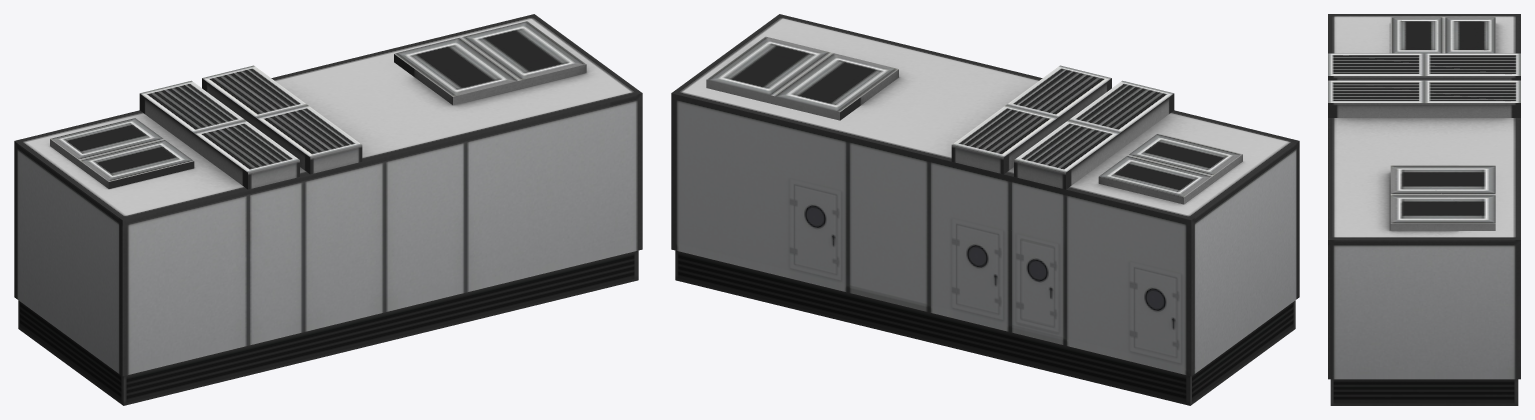
Rendered from AHU103.gltf.
The picture shows the model from 3 angles, left to right: view 1: azimuth 30°, elevation 25°; view 2: azimuth 150°, elevation 25°; view 3: azimuth 270°, elevation 25°; orthographic projection. The views are drawn at different scales.
Visible parts, largest first — view 1: AHU103; view 2: AHU103; view 3: AHU103.
Part boxes in pixels (box(x1,y1,x2,y2)): AHU103: box(14, 14, 642, 405); AHU103: box(671, 14, 1299, 405); AHU103: box(1328, 14, 1520, 405).
Size of the model in its own units: 61 by 22.9 by 22.
Materials: 1 (1 with a texture image).
